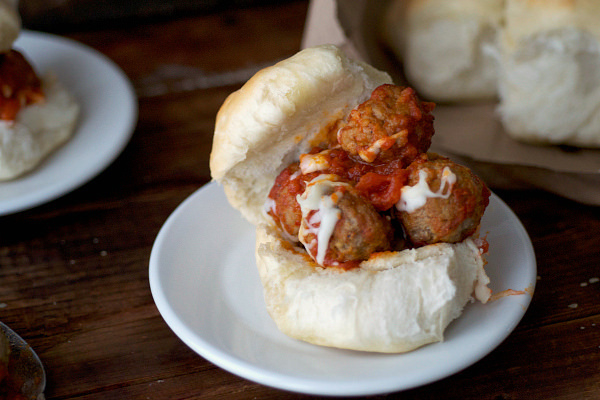meatballs: (287, 153, 490, 251), (337, 82, 433, 161)
slice of bread: (253, 240, 496, 354), (190, 41, 369, 183)
